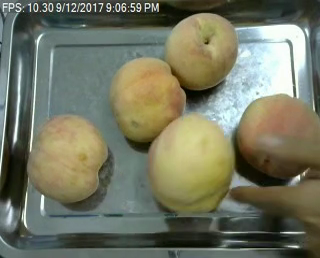Peach: (146, 112, 233, 215), (26, 114, 108, 202), (236, 93, 320, 178), (107, 57, 185, 141), (164, 11, 241, 91)
